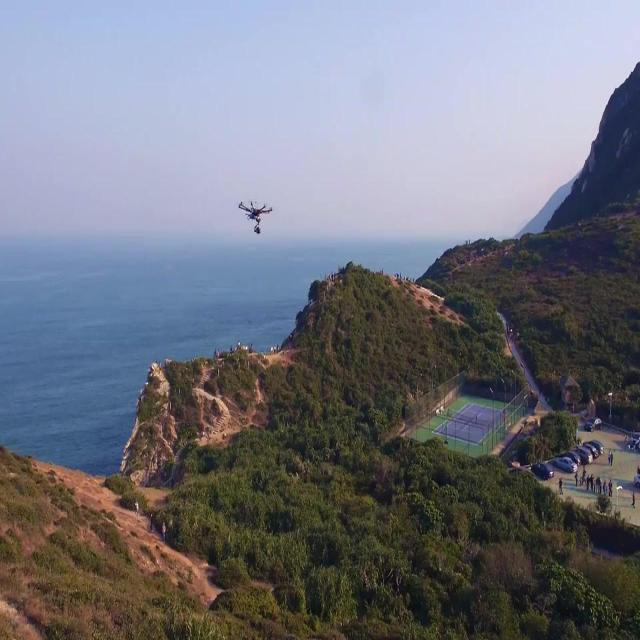drone: (237, 197, 274, 238)
